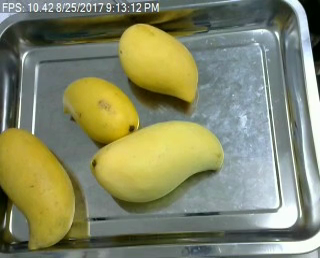Mango: (91, 118, 224, 208), (0, 127, 81, 247), (116, 21, 201, 107), (62, 73, 139, 146)
